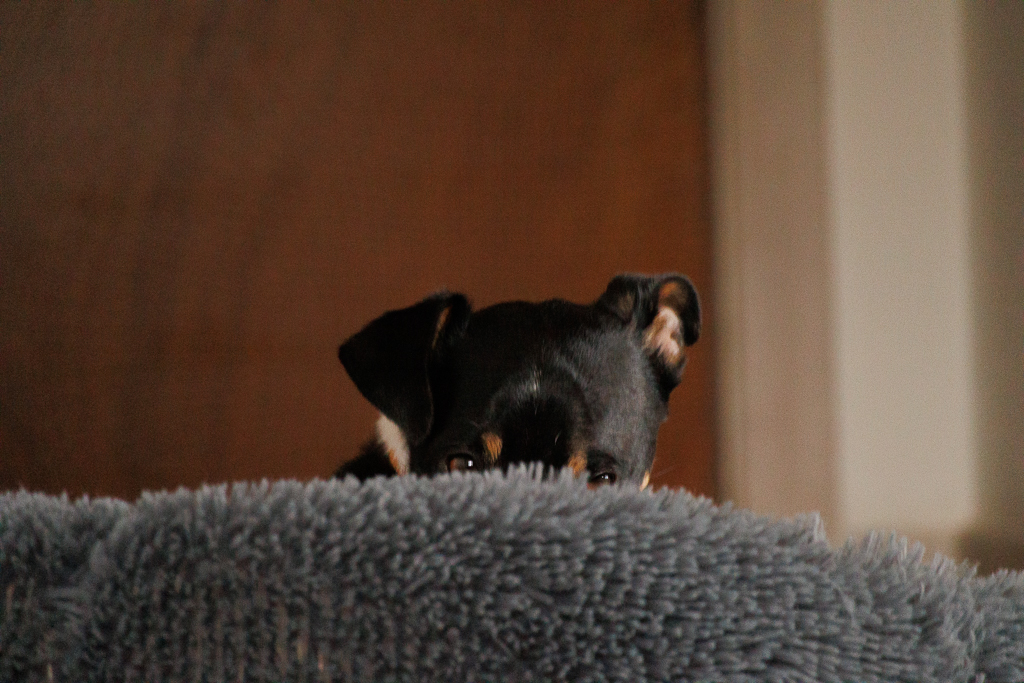Dog: (302, 269, 713, 521)
